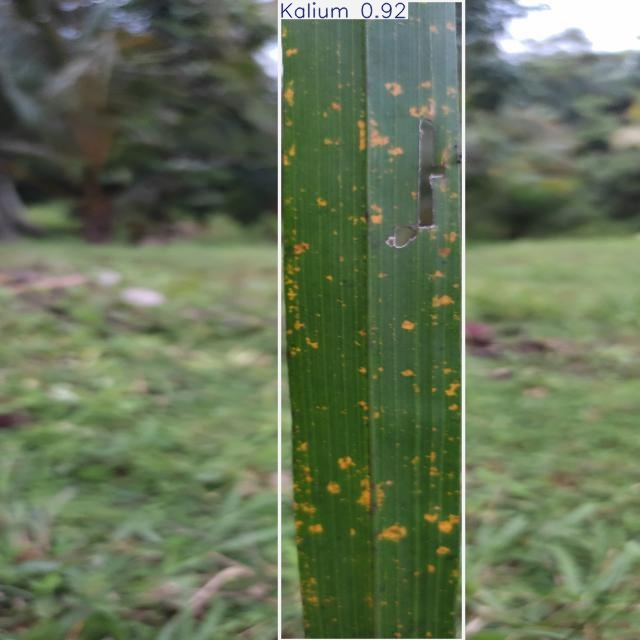Kalium: (280, 0, 464, 640)
